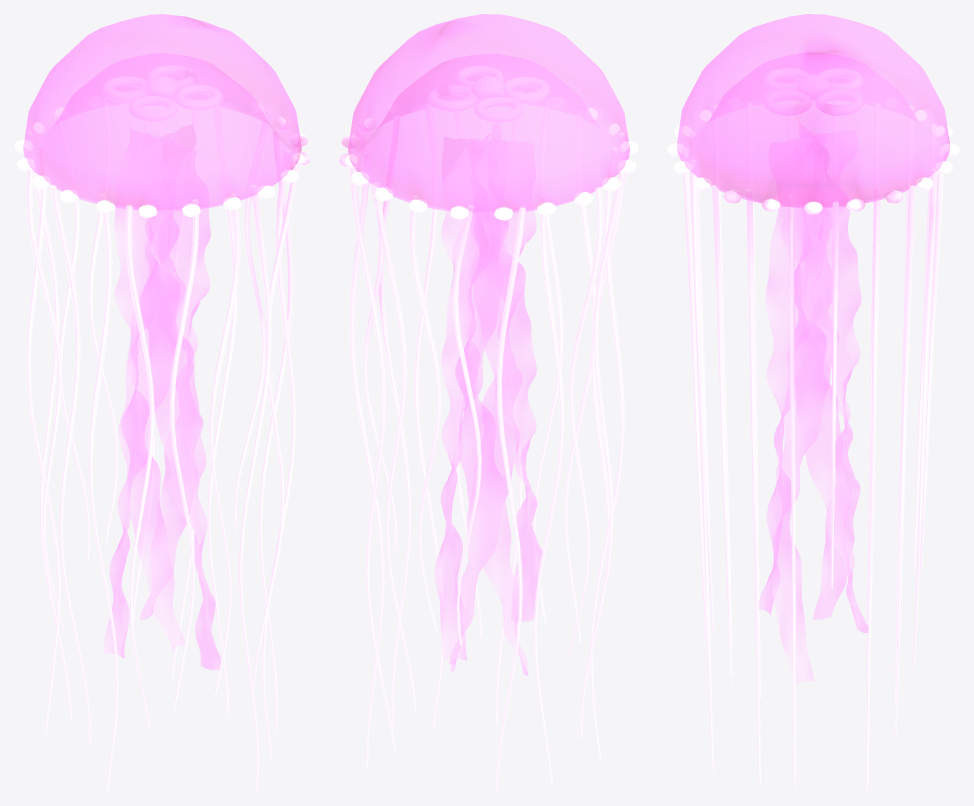
File: deep_jelly.glb
The picture shows the model from 3 angles, left to right: view 1: azimuth 30°, elevation 25°; view 2: azimuth 150°, elevation 25°; view 3: azimuth 270°, elevation 25°; orthographic projection. The views are drawn at different scales.
Parts seen in each view (by area): view 1: jelly_bell_mesh, jelly_tentacles, jelly_arms; view 2: jelly_bell_mesh, jelly_tentacles, jelly_arms; view 3: jelly_bell_mesh, jelly_arms, jelly_tentacles.
Part boxes in pixels (x1=…): jelly_bell_mesh: x1=14, y1=14, x2=310, y2=218; jelly_tentacles: x1=26, y1=104, x2=298, y2=791; jelly_arms: x1=104, y1=125, x2=220, y2=670; jelly_bell_mesh: x1=339, y1=14, x2=638, y2=220; jelly_tentacles: x1=349, y1=104, x2=626, y2=791; jelly_arms: x1=434, y1=124, x2=542, y2=675; jelly_bell_mesh: x1=667, y1=14, x2=959, y2=214; jelly_arms: x1=758, y1=120, x2=868, y2=683; jelly_tentacles: x1=682, y1=100, x2=944, y2=791.
Size of the model in its own units: 1.37 by 3.74 by 1.37.
